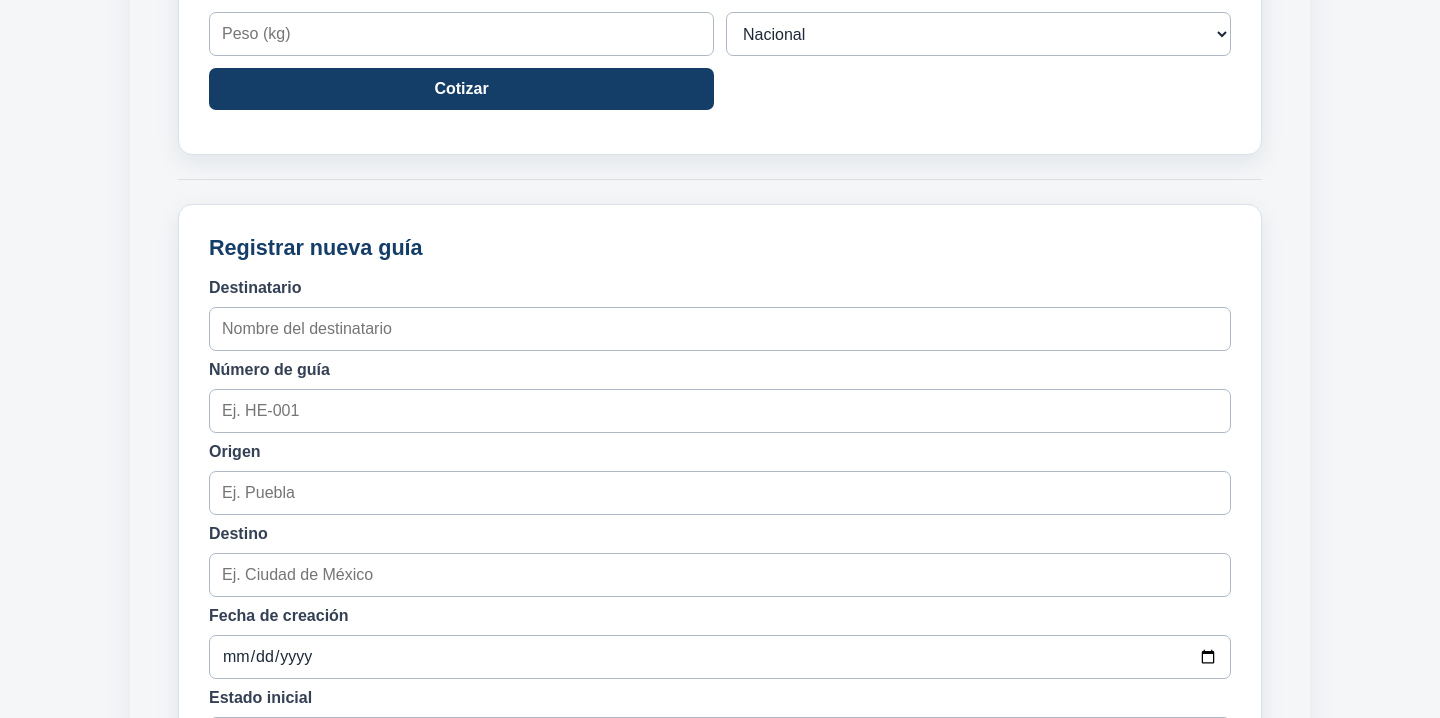
it: App › una guía registrada aparece en la lista y en el panel de estado
This screenshot has width=1440, height=718.
(page scrolled)
Step 1. Type "Juan Pérez" into the field with placeholder "Nombre del destinatario" → (720, 329), box [209, 307, 1231, 351]
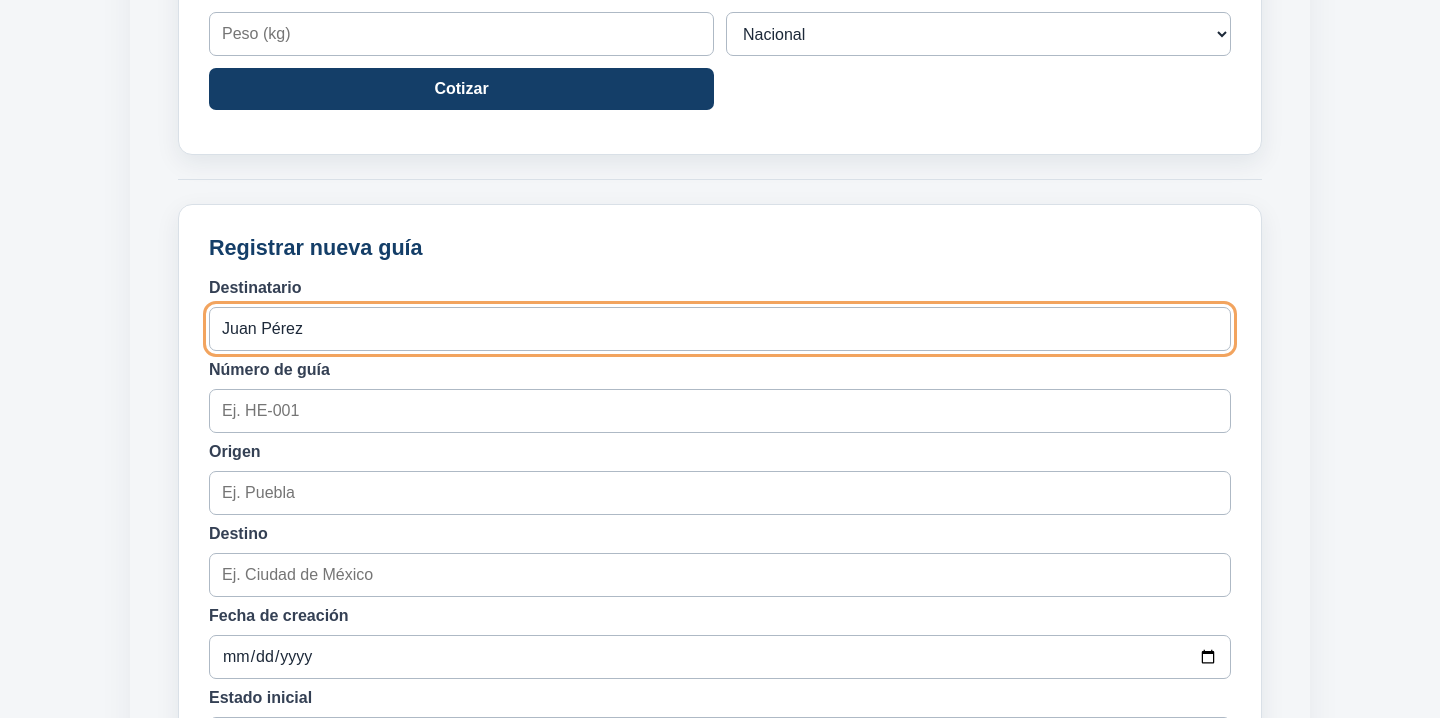
Step 2. Type "HE-001" into the field with placeholder "Ej. HE-001" → (720, 411), box [209, 389, 1231, 433]
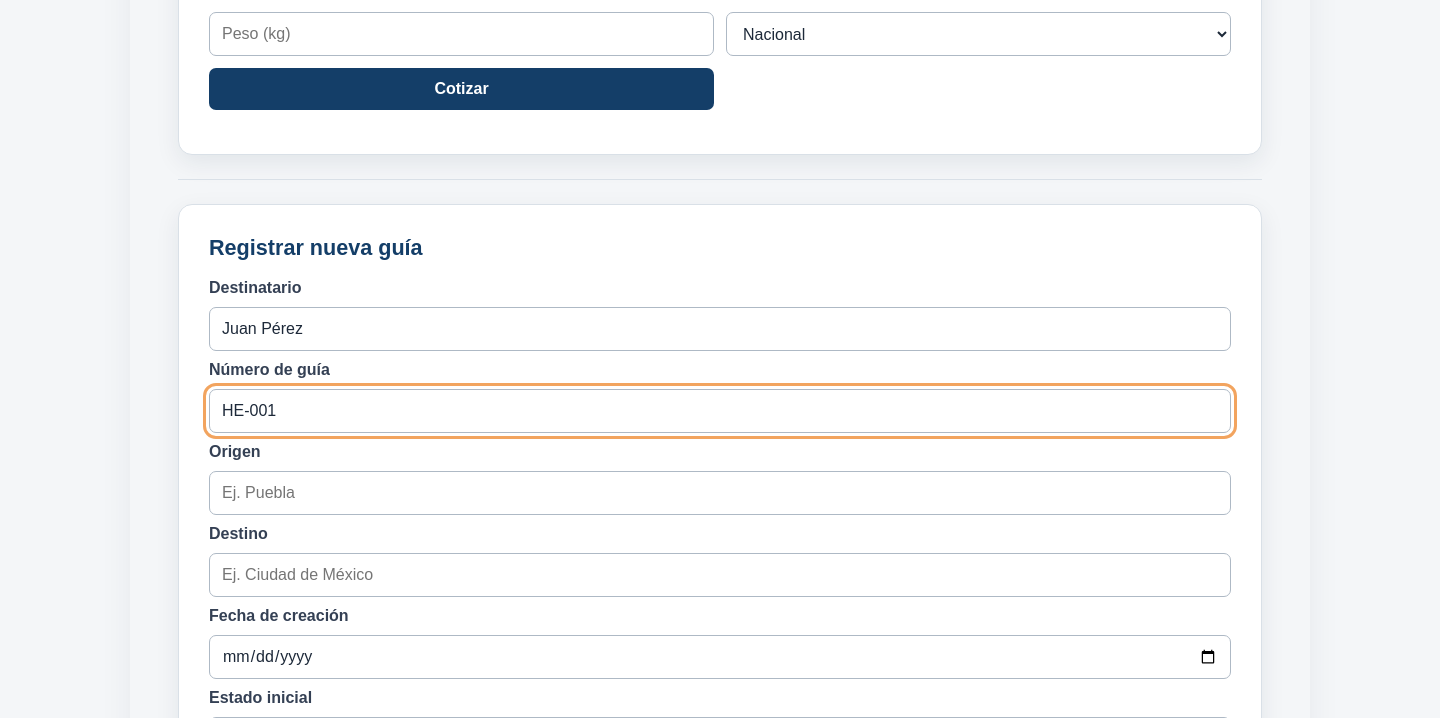
Step 3. Type "Puebla" into the field with placeholder "Ej. Puebla" below "Número de guía" → (720, 493), box [209, 471, 1231, 515]
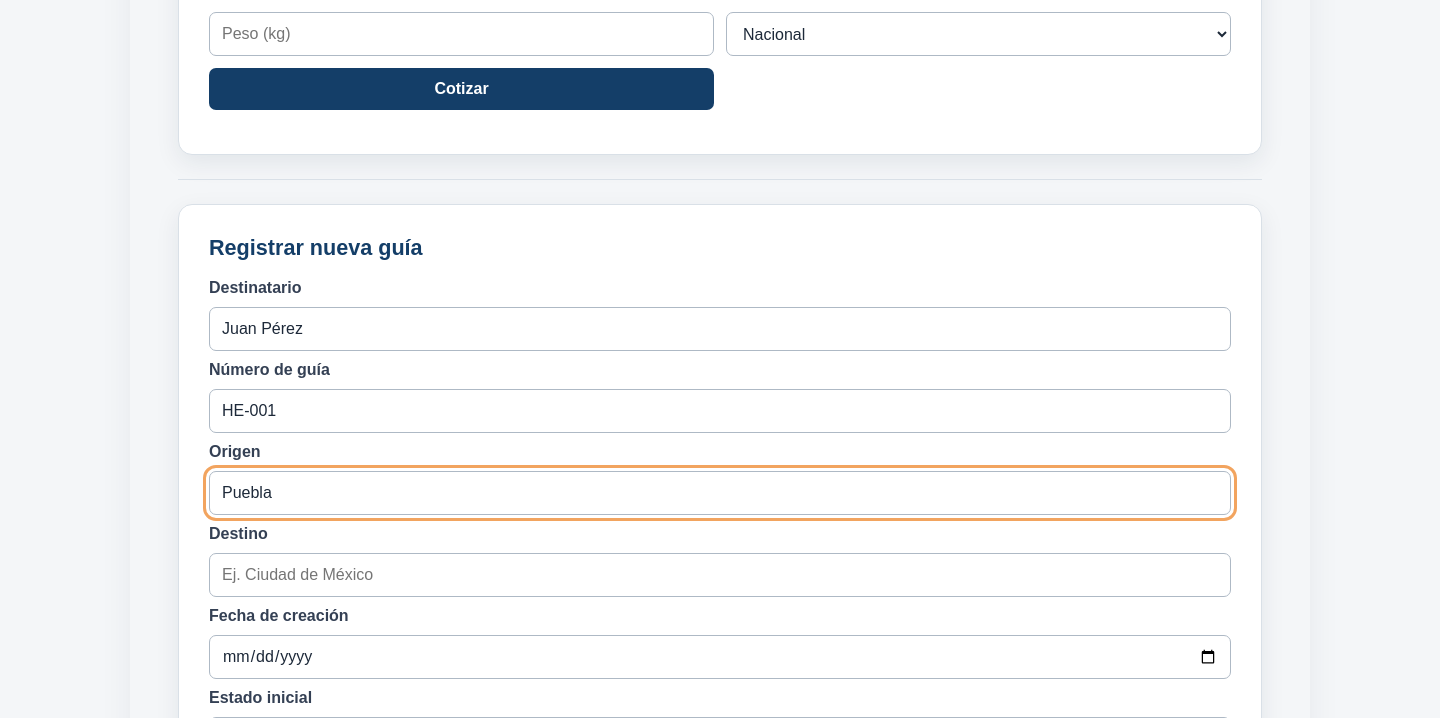
Step 4. Type "Ciudad de México" into the field with placeholder "Ej. Ciudad de México" below "Origen" → (720, 575), box [209, 553, 1231, 597]
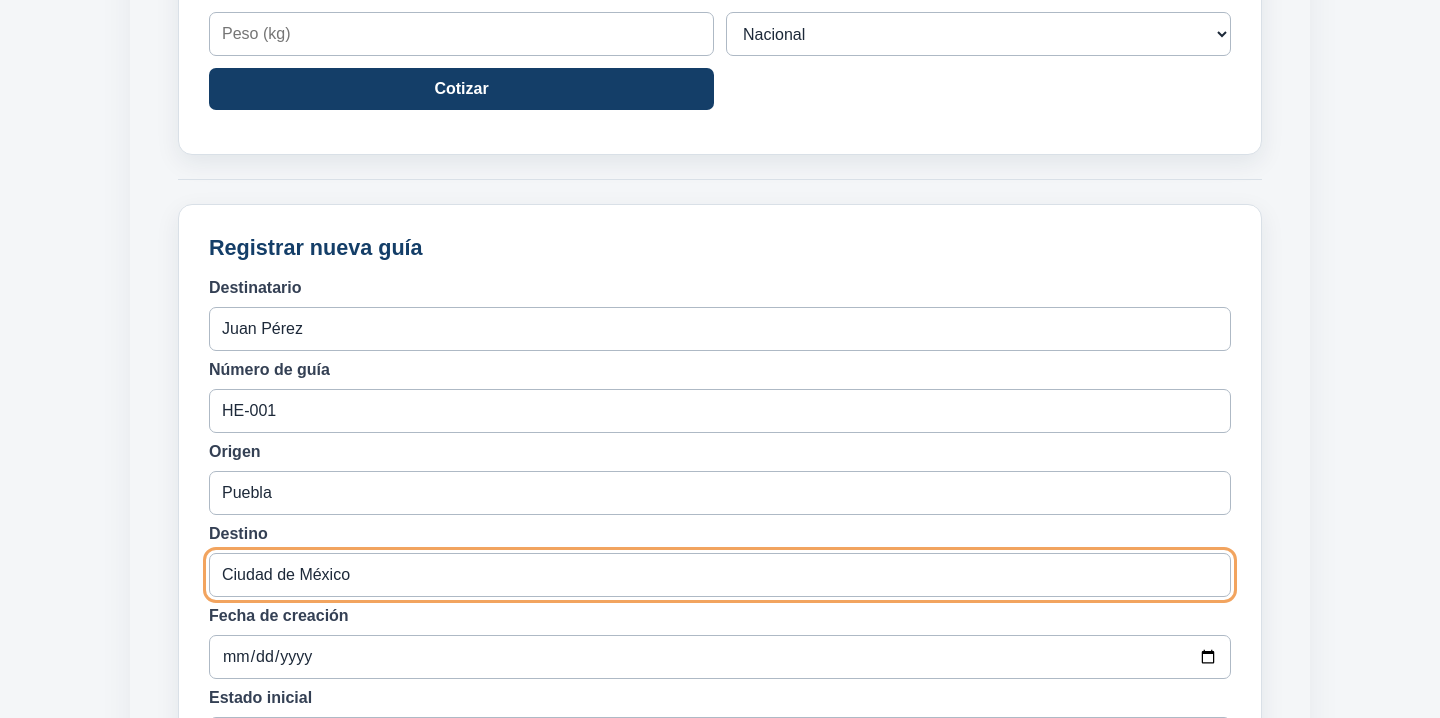
Step 5. Type "2026-10-04" into the date field labelled "Fecha de creación" → (720, 657), box [209, 635, 1231, 679]
(page scrolled)
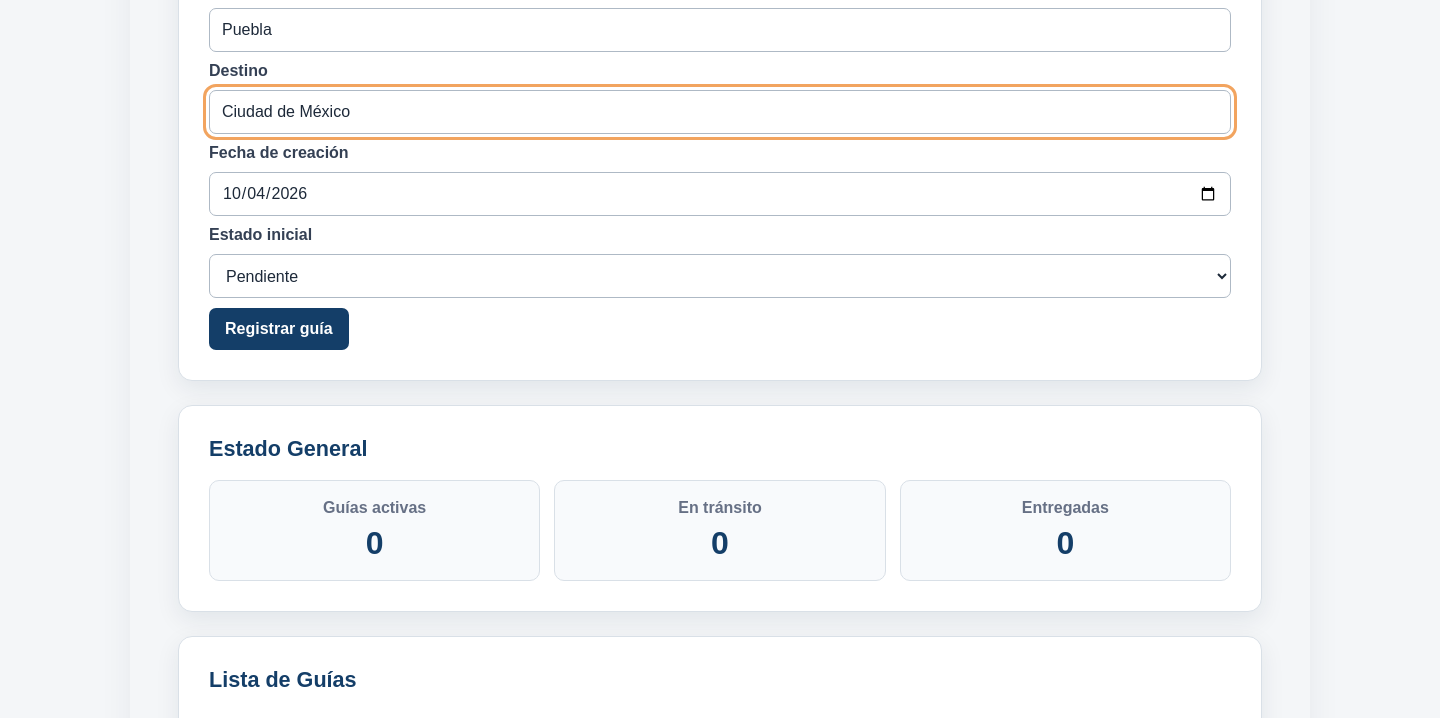
Step 6. Click the button "Registrar guía" → click(279, 329), box [209, 308, 349, 350]
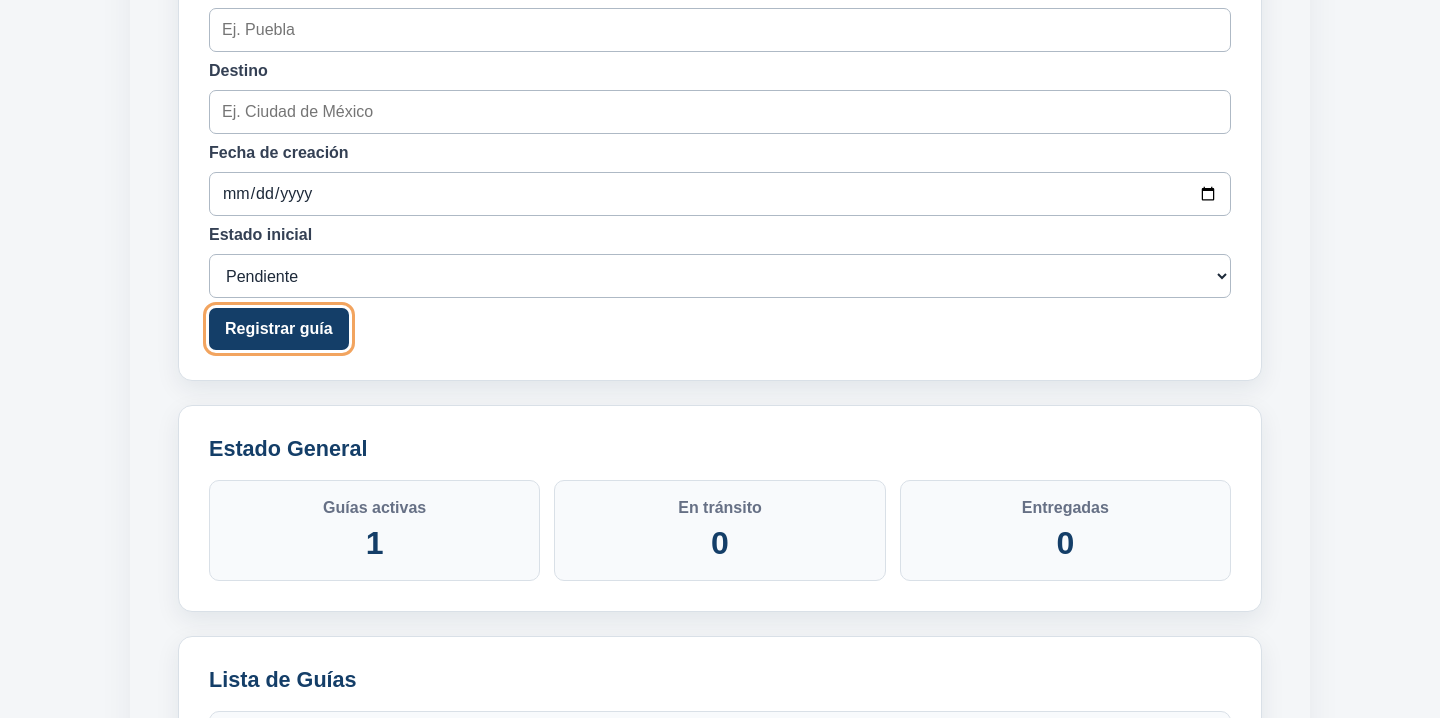
Check: the message with id "guias-activas" reads "1", box [366, 525, 384, 561]
